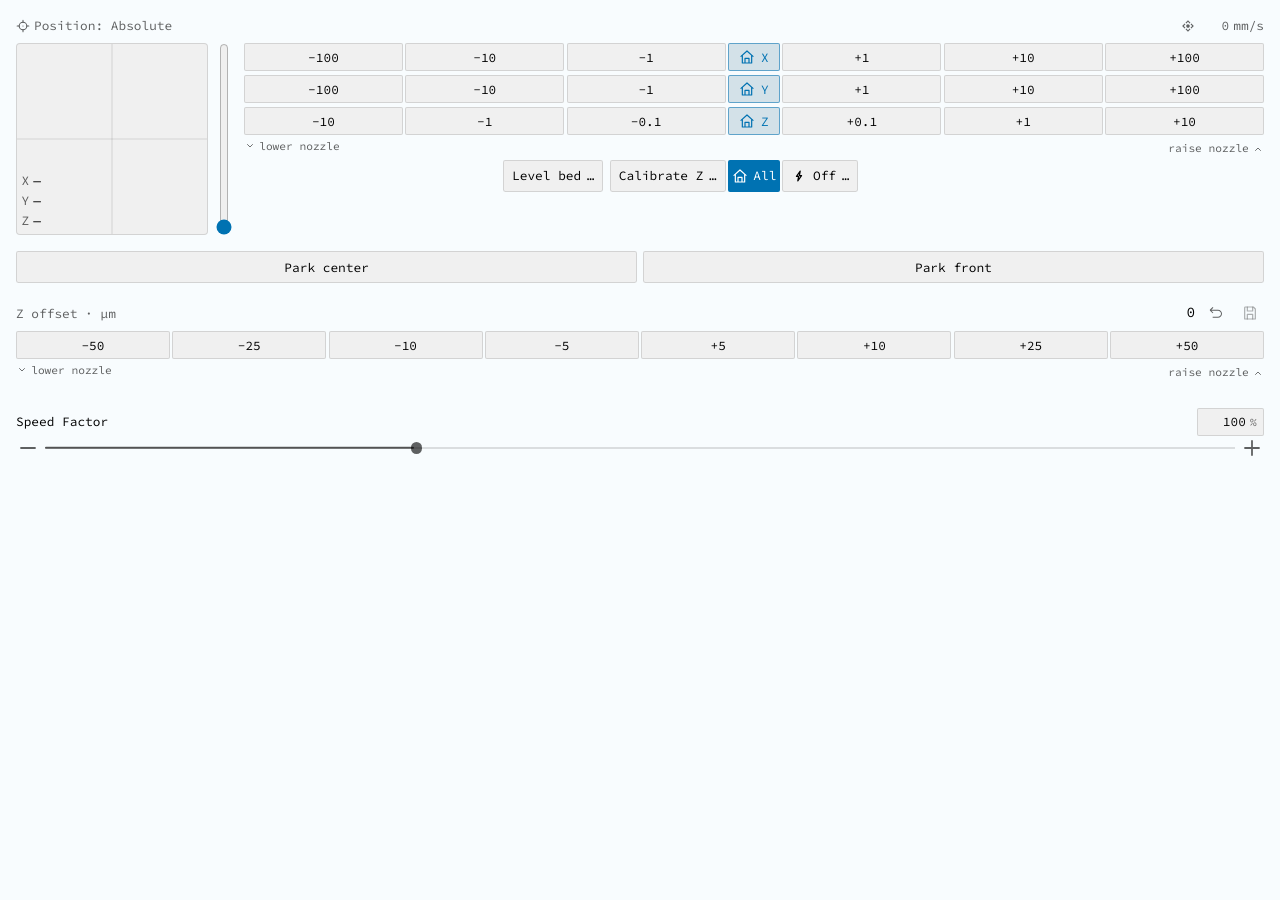
Test: MovementModule › keeps the screw results after the console buffer has trimmed older lines
Click the button with class "jog-leveling-shortcut".
click(553, 176)  # box [503,160,604,192]
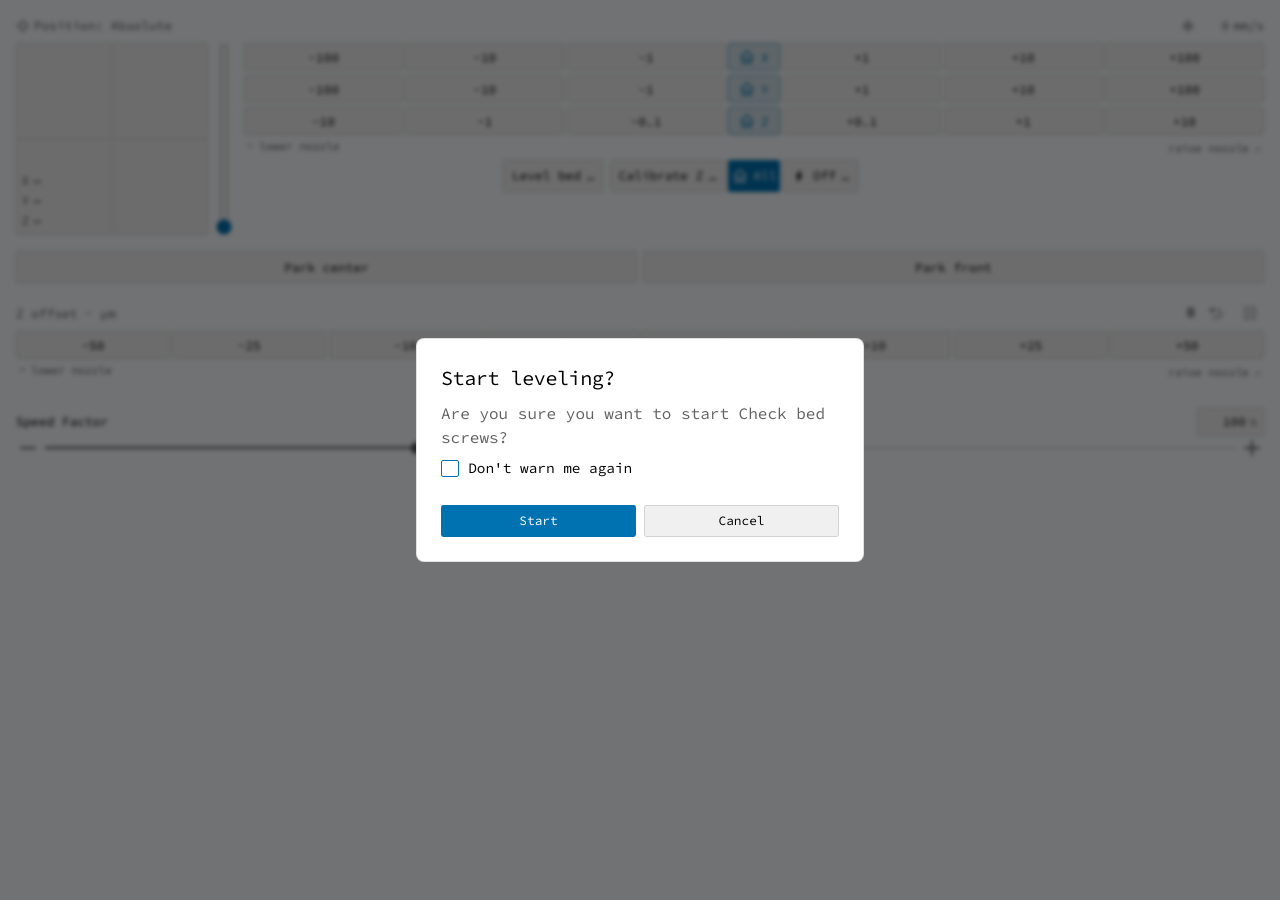
Click the button "Start".
click(538, 521)  # box [441,505,636,537]
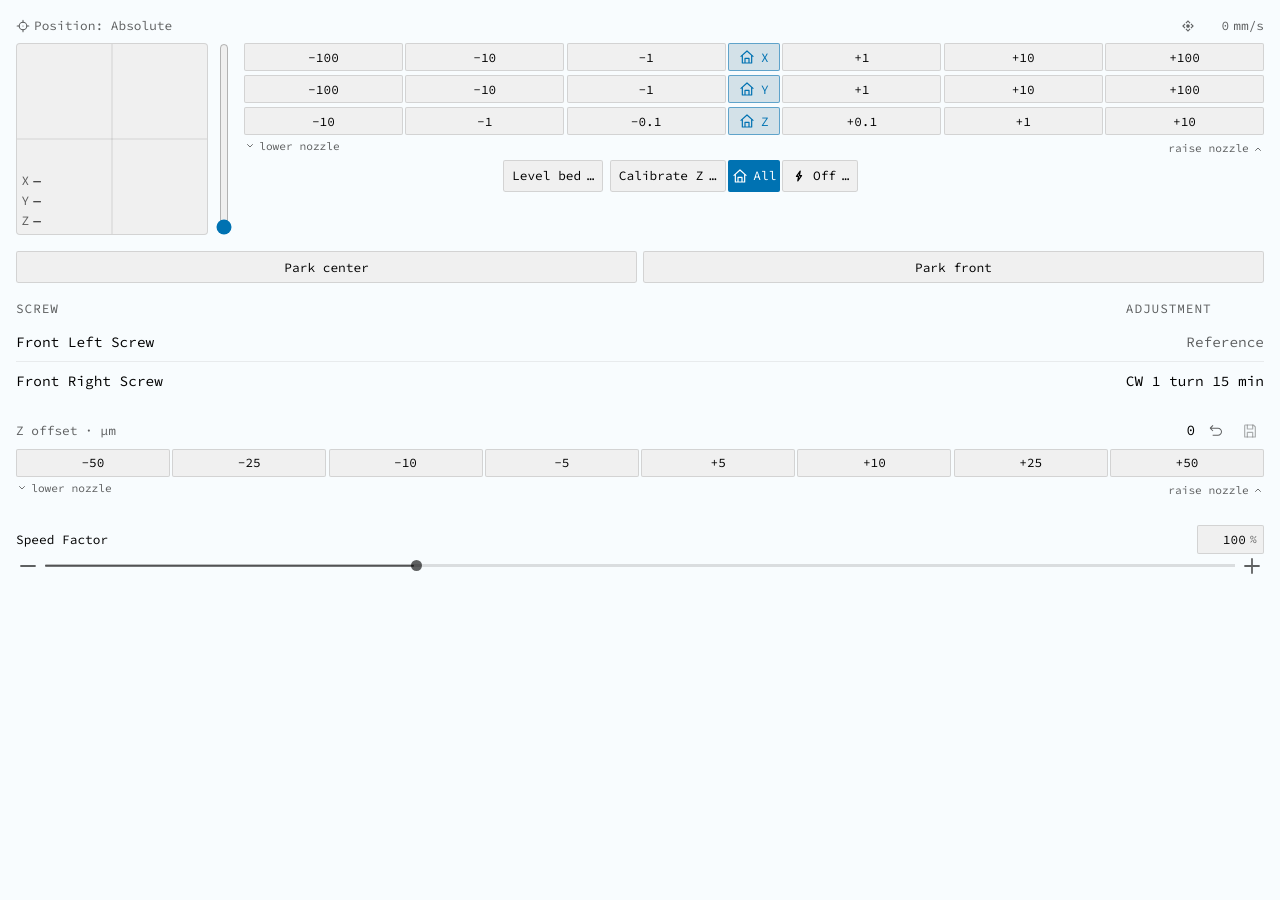
Expected: the number of elements with class "module-table__row" is 2, [16,324,1264,362]; [16,372,1264,390]
